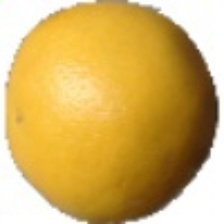grapes: (17, 28, 173, 200)
